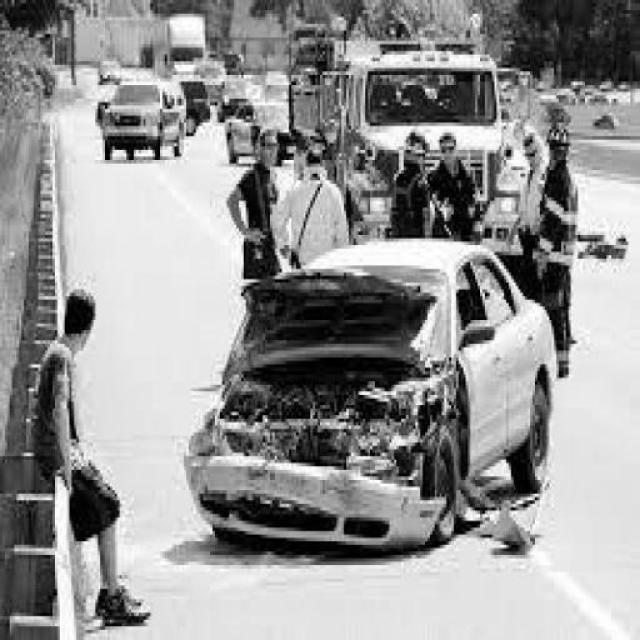crush: (184, 268, 452, 534)
